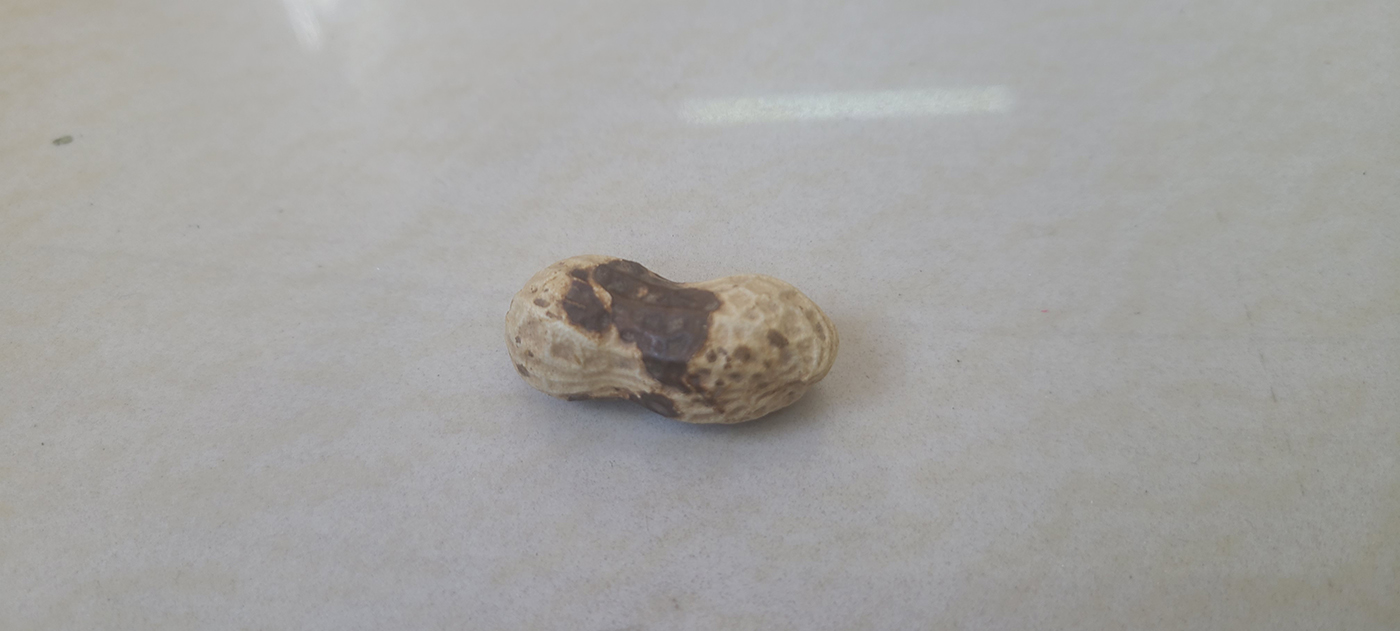l: (500, 252, 840, 426)
